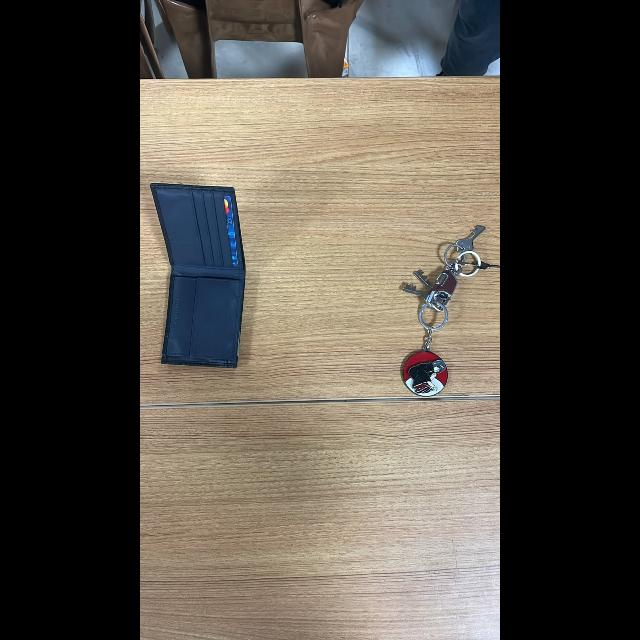keys: (396, 212, 498, 412)
wallet: (142, 169, 274, 375)
